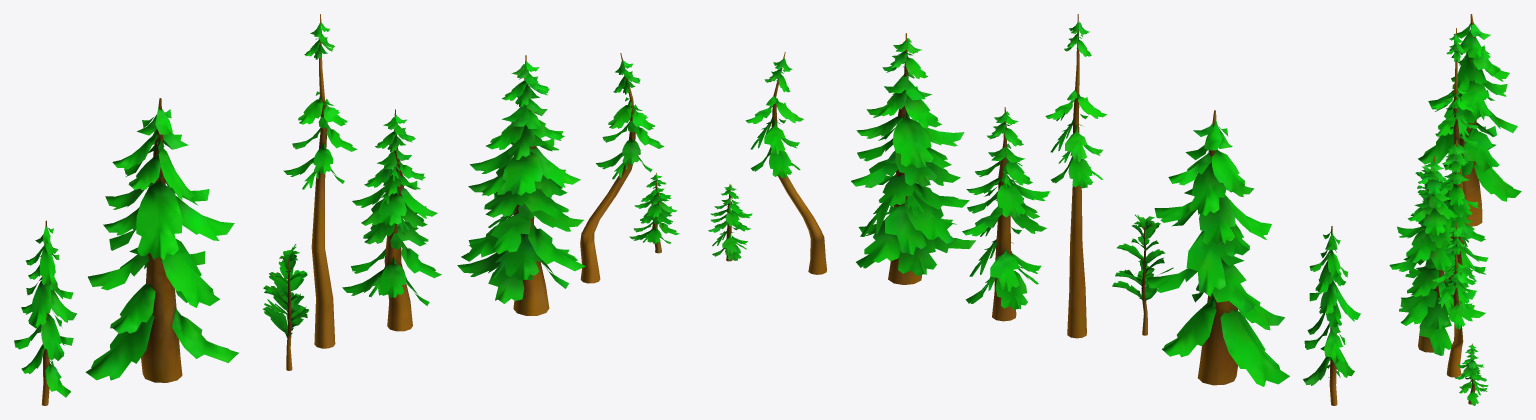
File: tree_grp.glb
3 views of the same model, side by side, from view 1: azimuth 30°, elevation 25°; view 2: azimuth 150°, elevation 25°; view 3: azimuth 270°, elevation 25° (orthographic). The views are drawn at different scales.
Parts seen in each view (by area): view 1: Tree_08, Tree_04, Tree_05, Tree_07, Tree_01, Tree_02, Tree_03, Tree_06; view 2: Tree_08, Tree_04, Tree_05, Tree_07, Tree_02, Tree_01, Tree_03, Tree_06; view 3: Tree_04, Tree_08, Tree_05, Tree_02, Tree_07, Tree_06, Tree_03.
Part boxes in pixels (x1=…): Tree_08: x1=85, y1=98, x2=238, y2=382; Tree_04: x1=457, y1=55, x2=585, y2=315; Tree_05: x1=342, y1=109, x2=441, y2=331; Tree_07: x1=283, y1=14, x2=357, y2=348; Tree_01: x1=14, y1=220, x2=76, y2=405; Tree_02: x1=580, y1=53, x2=664, y2=283; Tree_03: x1=263, y1=244, x2=308, y2=370; Tree_06: x1=629, y1=173, x2=679, y2=253; Tree_08: x1=1146, y1=110, x2=1289, y2=386; Tree_04: x1=851, y1=33, x2=975, y2=284; Tree_05: x1=962, y1=107, x2=1049, y2=321; Tree_07: x1=1045, y1=14, x2=1106, y2=338; Tree_02: x1=745, y1=52, x2=826, y2=274; Tree_01: x1=1303, y1=226, x2=1360, y2=405; Tree_03: x1=1112, y1=214, x2=1173, y2=335; Tree_06: x1=708, y1=184, x2=752, y2=261; Tree_04: x1=1389, y1=155, x2=1485, y2=355; Tree_08: x1=1418, y1=14, x2=1521, y2=226; Tree_05: x1=1440, y1=140, x2=1488, y2=303; Tree_02: x1=1432, y1=222, x2=1476, y2=377; Tree_07: x1=1431, y1=28, x2=1477, y2=239; Tree_06: x1=1455, y1=343, x2=1488, y2=405; Tree_03: x1=1410, y1=166, x2=1446, y2=225.
Size of the model in its own units: 25.55 by 12.28 by 5.95.
Materials: 1 (1 with a texture image).
